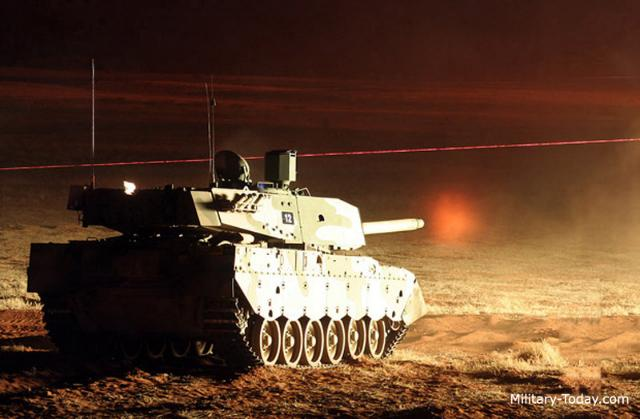tank: (36, 166, 408, 359)
